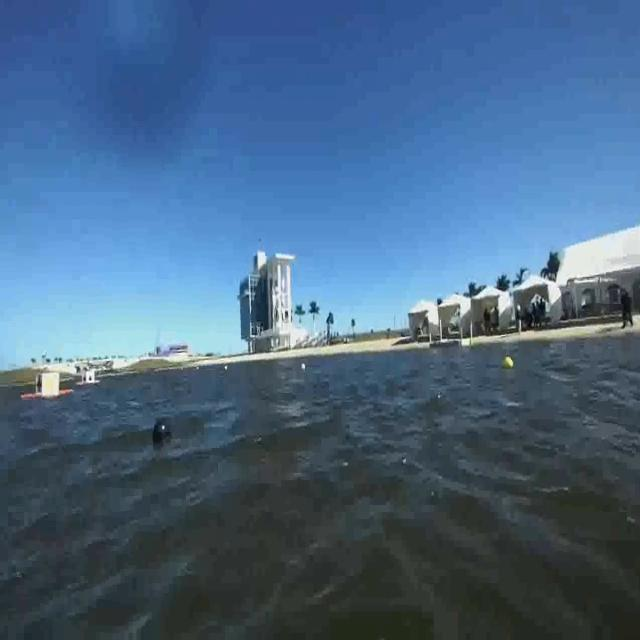black-buoy: (151, 415, 171, 456)
yellow-buoy: (502, 355, 514, 370)
